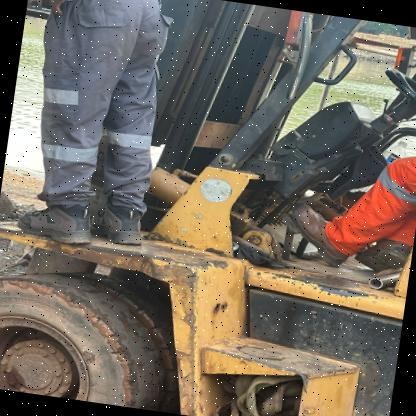bota: (290, 202, 354, 268), (12, 197, 94, 245), (83, 200, 148, 249), (352, 231, 406, 276)
